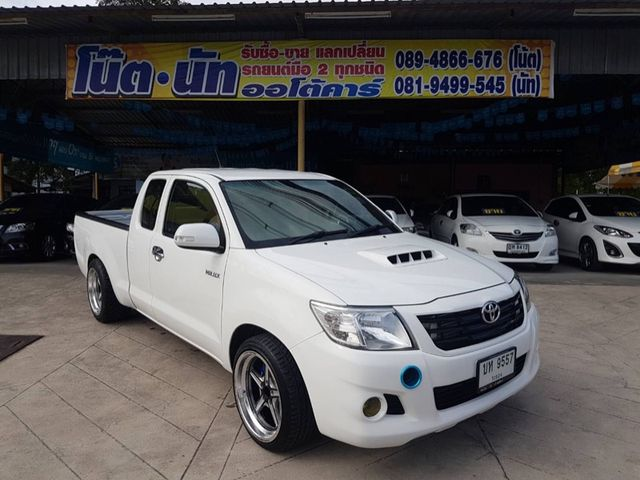pickup: (70, 164, 540, 453)
